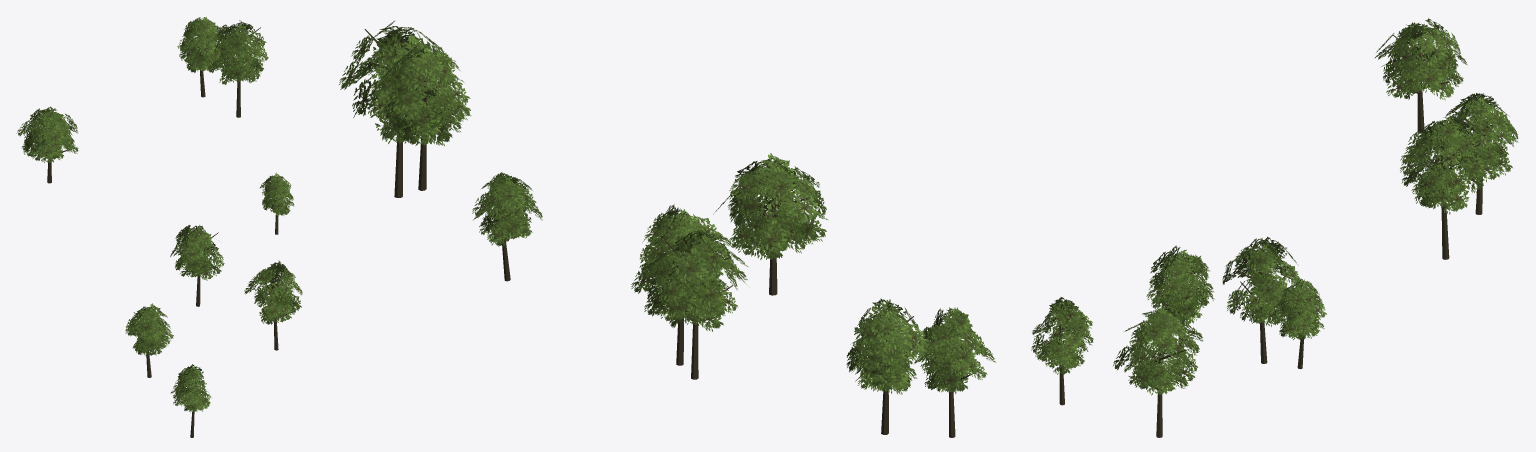
File: TRB8-FOREST-CHUNK-5-0.glb
The picture shows the model from 3 angles, left to right: view 1: azimuth 30°, elevation 25°; view 2: azimuth 150°, elevation 25°; view 3: azimuth 270°, elevation 25°; orthographic projection. The views are drawn at different scales.
Visible parts, largest first — view 1: TRB8-FOREST-CHUNK-5-0; view 2: TRB8-FOREST-CHUNK-5-0; view 3: TRB8-FOREST-CHUNK-5-0.
Part boxes in pixels (bbox=[...]): TRB8-FOREST-CHUNK-5-0: bbox=[16, 17, 302, 437]; TRB8-FOREST-CHUNK-5-0: bbox=[339, 20, 996, 437]; TRB8-FOREST-CHUNK-5-0: bbox=[1031, 18, 1518, 437].
Size of the model in its own units: 16.97 by 17.63 by 18.81.
2 materials, 1 textured.
